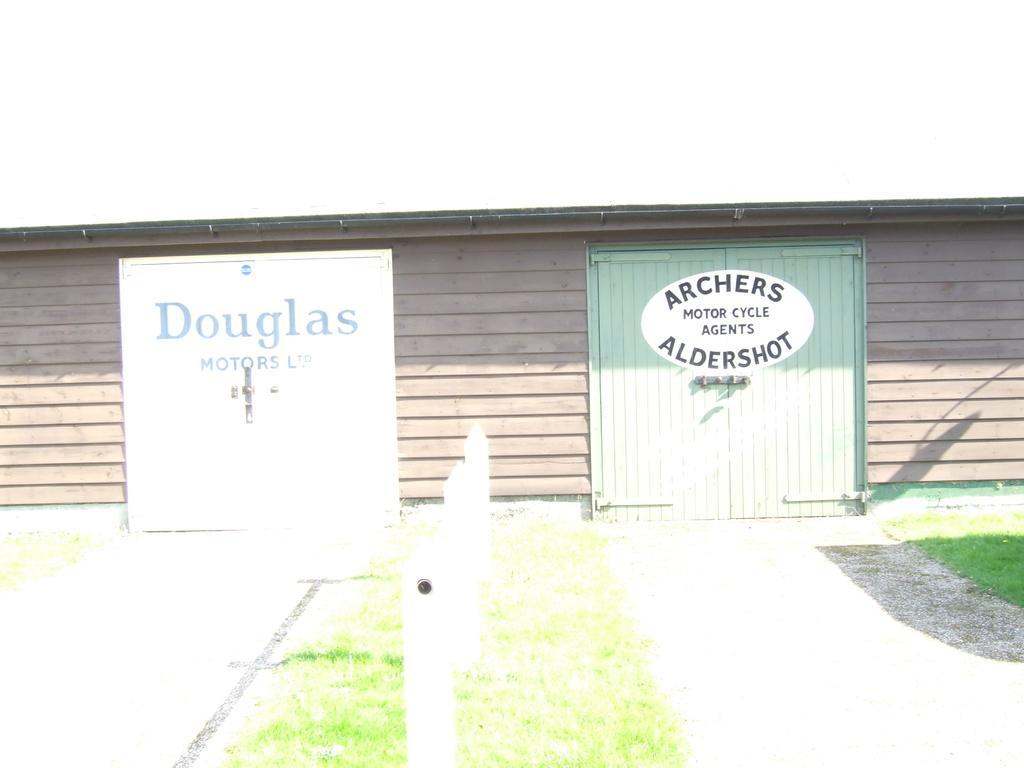door: (258, 271, 394, 529), (131, 264, 264, 524), (731, 257, 860, 516), (594, 258, 718, 506)
handle: (238, 374, 262, 424), (692, 372, 747, 392)
